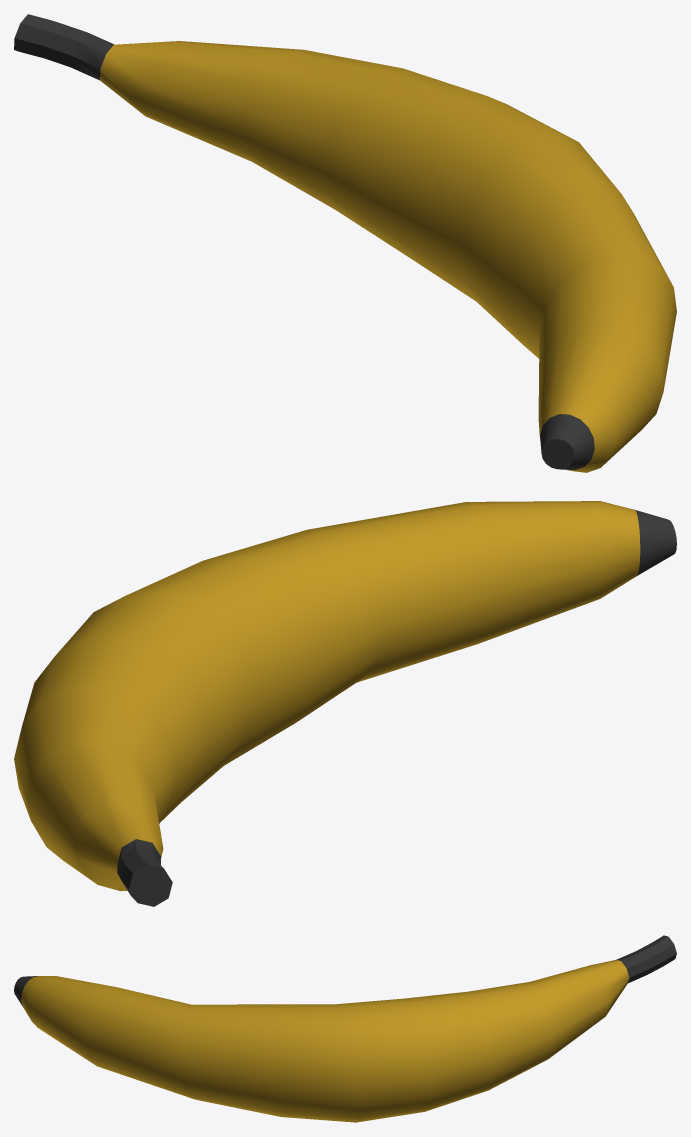
The model's file is food_banana.fbx.
3 views of the same model, one above another, from view 1: azimuth 30°, elevation 25°; view 2: azimuth 150°, elevation 25°; view 3: azimuth 270°, elevation 25° (orthographic). The views are drawn at different scales.
Visible parts, largest first — view 1: food_banana; view 2: food_banana; view 3: food_banana.
Part boxes in pixels (x1=…): food_banana: x1=14, y1=14, x2=676, y2=472; food_banana: x1=14, y1=501, x2=676, y2=906; food_banana: x1=14, y1=935, x2=676, y2=1122.
Size of the model in its own units: 7.2 by 3.52 by 19.09.
